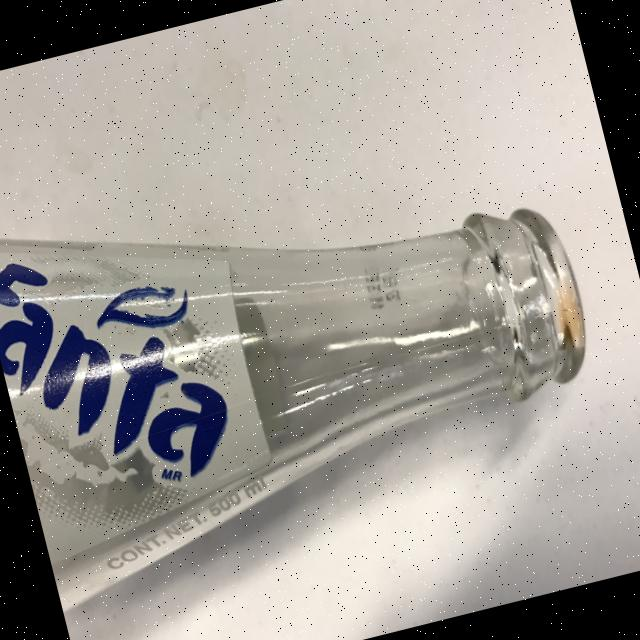glass: (0, 95, 623, 608)
